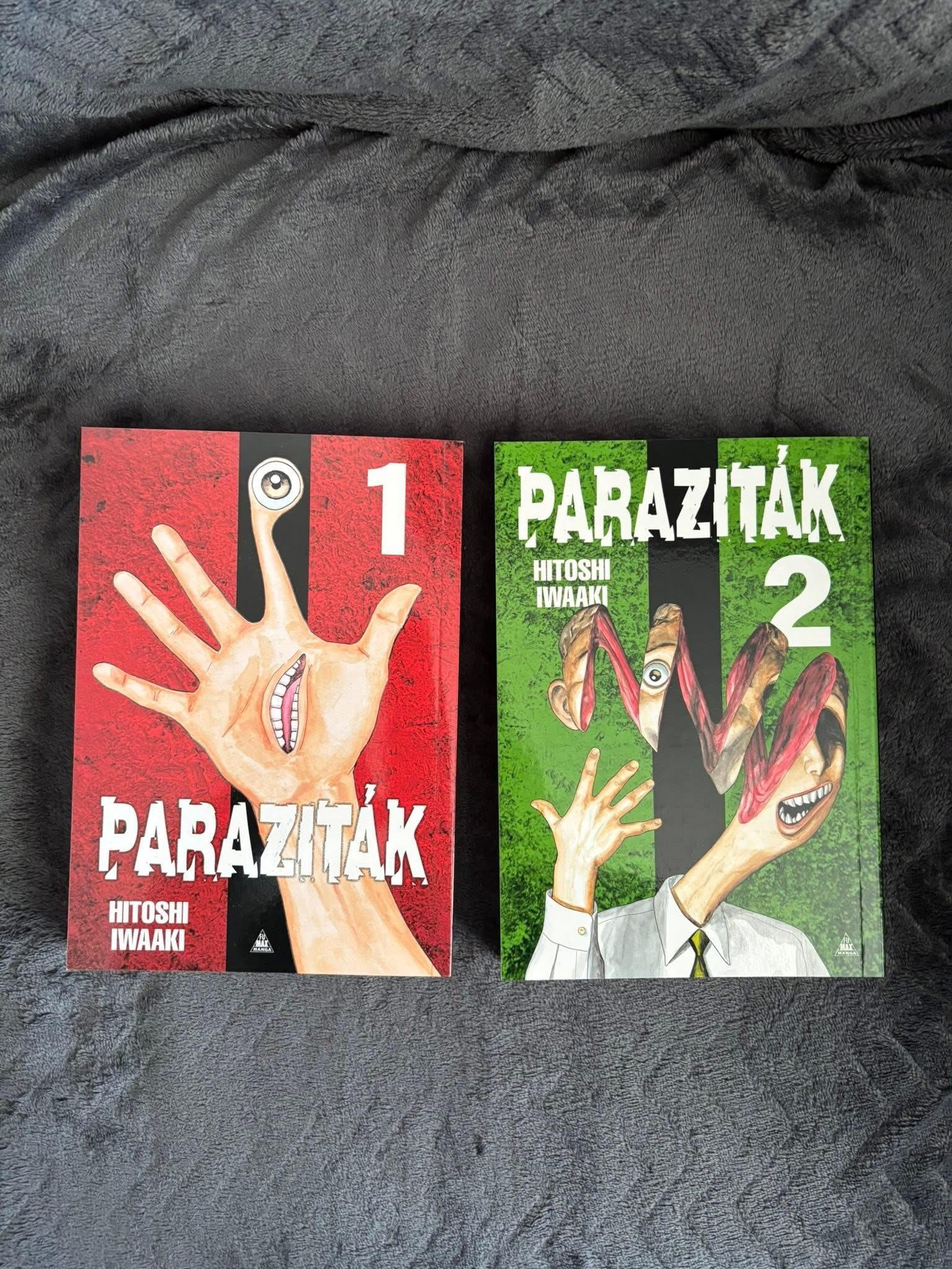comic: (67, 428, 465, 979), (496, 437, 882, 980)
